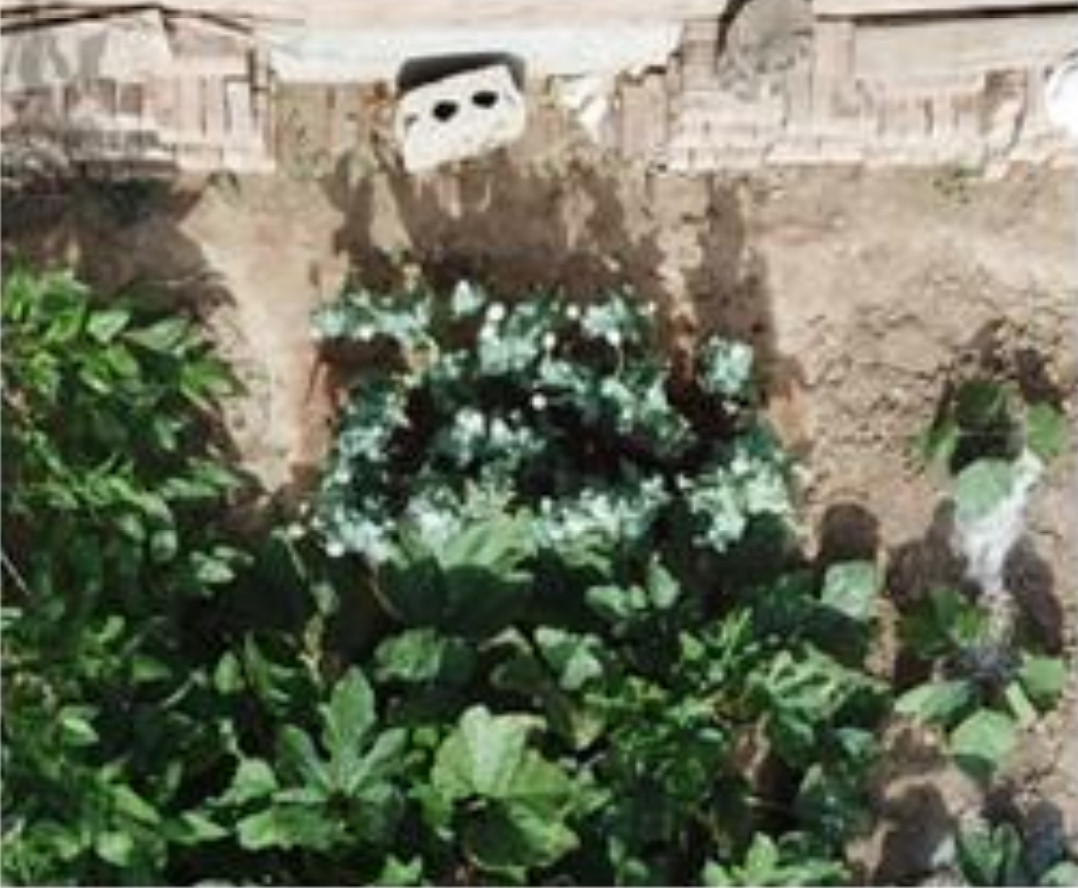Poppy: (292, 265, 807, 568)
